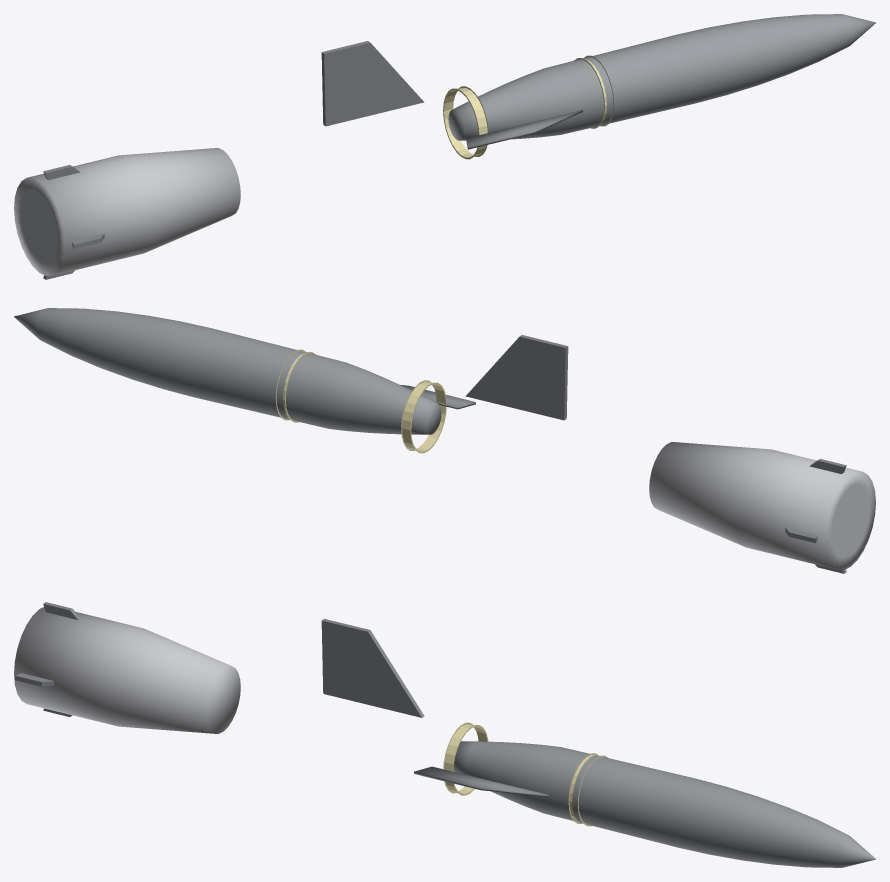
Rendered from US_ASM_Harpoon_LOD1.fbx.
3 renders of one model, top to bottom at view 1: azimuth 30°, elevation 25°; view 2: azimuth 150°, elevation 25°; view 3: azimuth 330°, elevation 25°, orthographic.
Parts seen in each view (by area): view 1: WPN_US_ASM_Harpoon_LOD1_Body, WPN_US_ASM_Harpoon_LOD1_Tail, WPN_US_ASM_Harpoon_LOD1_Wings, WPN_US_ASM_Harpoon_LOD1_Marking, WPN_US_ASM_Harpoon_LOD1_Detail, WPN_US_ASM_Harpoon_LOD1_Fins; view 2: WPN_US_ASM_Harpoon_LOD1_Body, WPN_US_ASM_Harpoon_LOD1_Tail, WPN_US_ASM_Harpoon_LOD1_Wings, WPN_US_ASM_Harpoon_LOD1_Marking, WPN_US_ASM_Harpoon_LOD1_Fins; view 3: WPN_US_ASM_Harpoon_LOD1_Body, WPN_US_ASM_Harpoon_LOD1_Tail, WPN_US_ASM_Harpoon_LOD1_Wings, WPN_US_ASM_Harpoon_LOD1_Marking, WPN_US_ASM_Harpoon_LOD1_Detail, WPN_US_ASM_Harpoon_LOD1_Fins.
Part boxes in pixels (x1=…): WPN_US_ASM_Harpoon_LOD1_Body: x1=448, y1=14, x2=875, y2=140; WPN_US_ASM_Harpoon_LOD1_Tail: x1=14, y1=148, x2=240, y2=275; WPN_US_ASM_Harpoon_LOD1_Wings: x1=321, y1=41, x2=424, y2=126; WPN_US_ASM_Harpoon_LOD1_Marking: x1=443, y1=55, x2=614, y2=159; WPN_US_ASM_Harpoon_LOD1_Detail: x1=466, y1=110, x2=582, y2=149; WPN_US_ASM_Harpoon_LOD1_Fins: x1=43, y1=165, x2=104, y2=279; WPN_US_ASM_Harpoon_LOD1_Body: x1=14, y1=308, x2=441, y2=434; WPN_US_ASM_Harpoon_LOD1_Tail: x1=649, y1=442, x2=875, y2=569; WPN_US_ASM_Harpoon_LOD1_Wings: x1=465, y1=335, x2=568, y2=420; WPN_US_ASM_Harpoon_LOD1_Marking: x1=275, y1=349, x2=446, y2=453; WPN_US_ASM_Harpoon_LOD1_Fins: x1=785, y1=459, x2=846, y2=573; WPN_US_ASM_Harpoon_LOD1_Body: x1=453, y1=741, x2=875, y2=867; WPN_US_ASM_Harpoon_LOD1_Tail: x1=14, y1=607, x2=240, y2=733; WPN_US_ASM_Harpoon_LOD1_Wings: x1=321, y1=618, x2=424, y2=717; WPN_US_ASM_Harpoon_LOD1_Marking: x1=443, y1=722, x2=607, y2=826; WPN_US_ASM_Harpoon_LOD1_Detail: x1=414, y1=766, x2=548, y2=797; WPN_US_ASM_Harpoon_LOD1_Fins: x1=15, y1=602, x2=80, y2=716.
Bounding box in the file's own units: 4.6 × 0.5614 × 0.8307.
